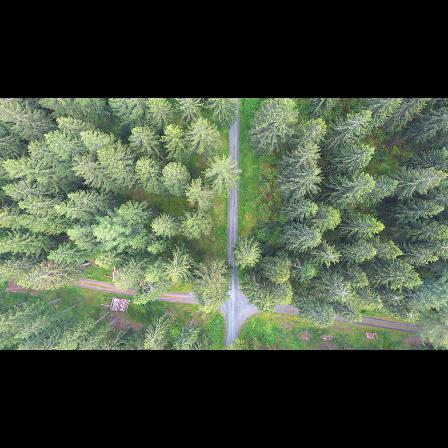Sick: (322, 247, 342, 268), (401, 306, 420, 325), (334, 283, 352, 301)
